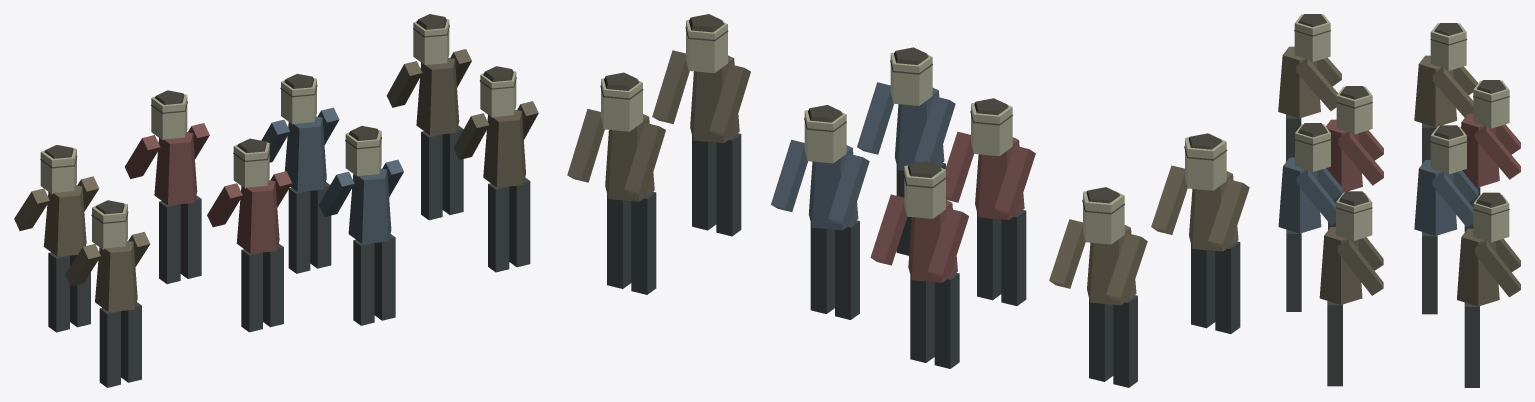
Rendered from enemy-squad.glb.
3 renders of one model, left to right at view 1: azimuth 30°, elevation 25°; view 2: azimuth 150°, elevation 25°; view 3: azimuth 270°, elevation 25°, orthographic. The views are drawn at different scales.
Visible parts, largest first — view 1: enemy-squad; view 2: enemy-squad; view 3: enemy-squad.
Boxes of the visible parts, x1,y1,x2,y2 form: enemy-squad: (14,14,538,387); enemy-squad: (567,14,1249,387); enemy-squad: (1278,14,1520,387).
Bounding box in the file's own units: 4.52 × 1.69 × 2.05.
